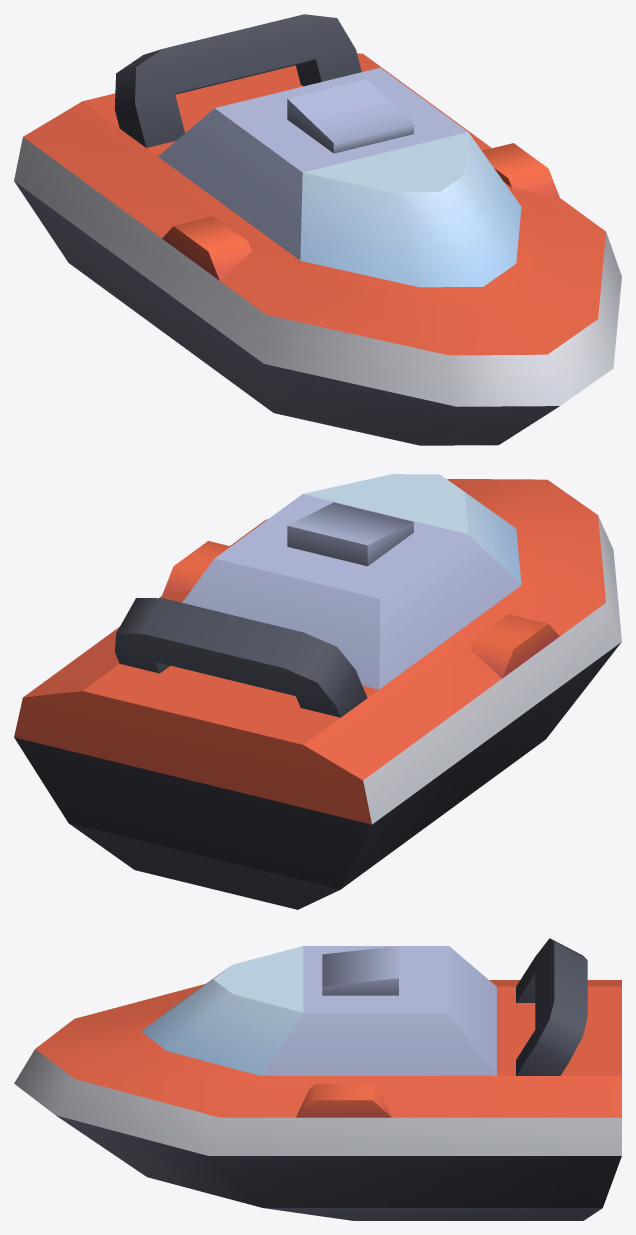
Rendered from k-watercraft-boat-speed-c.glb.
3 views of the same model, one above another, from view 1: azimuth 30°, elevation 25°; view 2: azimuth 150°, elevation 25°; view 3: azimuth 270°, elevation 25° (orthographic). The views are drawn at different scales.
Visible parts, largest first — view 1: boat-speed-c; view 2: boat-speed-c; view 3: boat-speed-c.
Boxes of the visible parts, box(x1,y1,x2,y2) form: boat-speed-c: box(14, 14, 621, 445); boat-speed-c: box(14, 474, 621, 909); boat-speed-c: box(14, 938, 621, 1220).
Bounding box in the file's own units: 1.78 × 1.3 × 3.17.
Materials: 1 (1 with a texture image).
